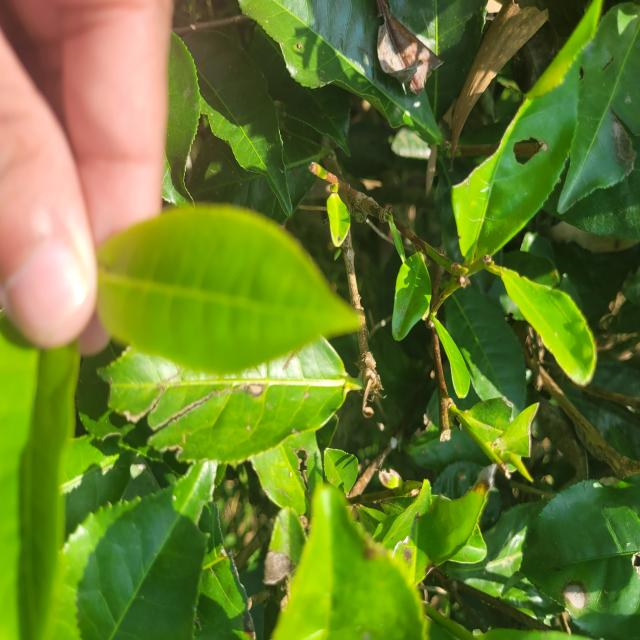Catagory A(1-2 days): (78, 178, 386, 402)
